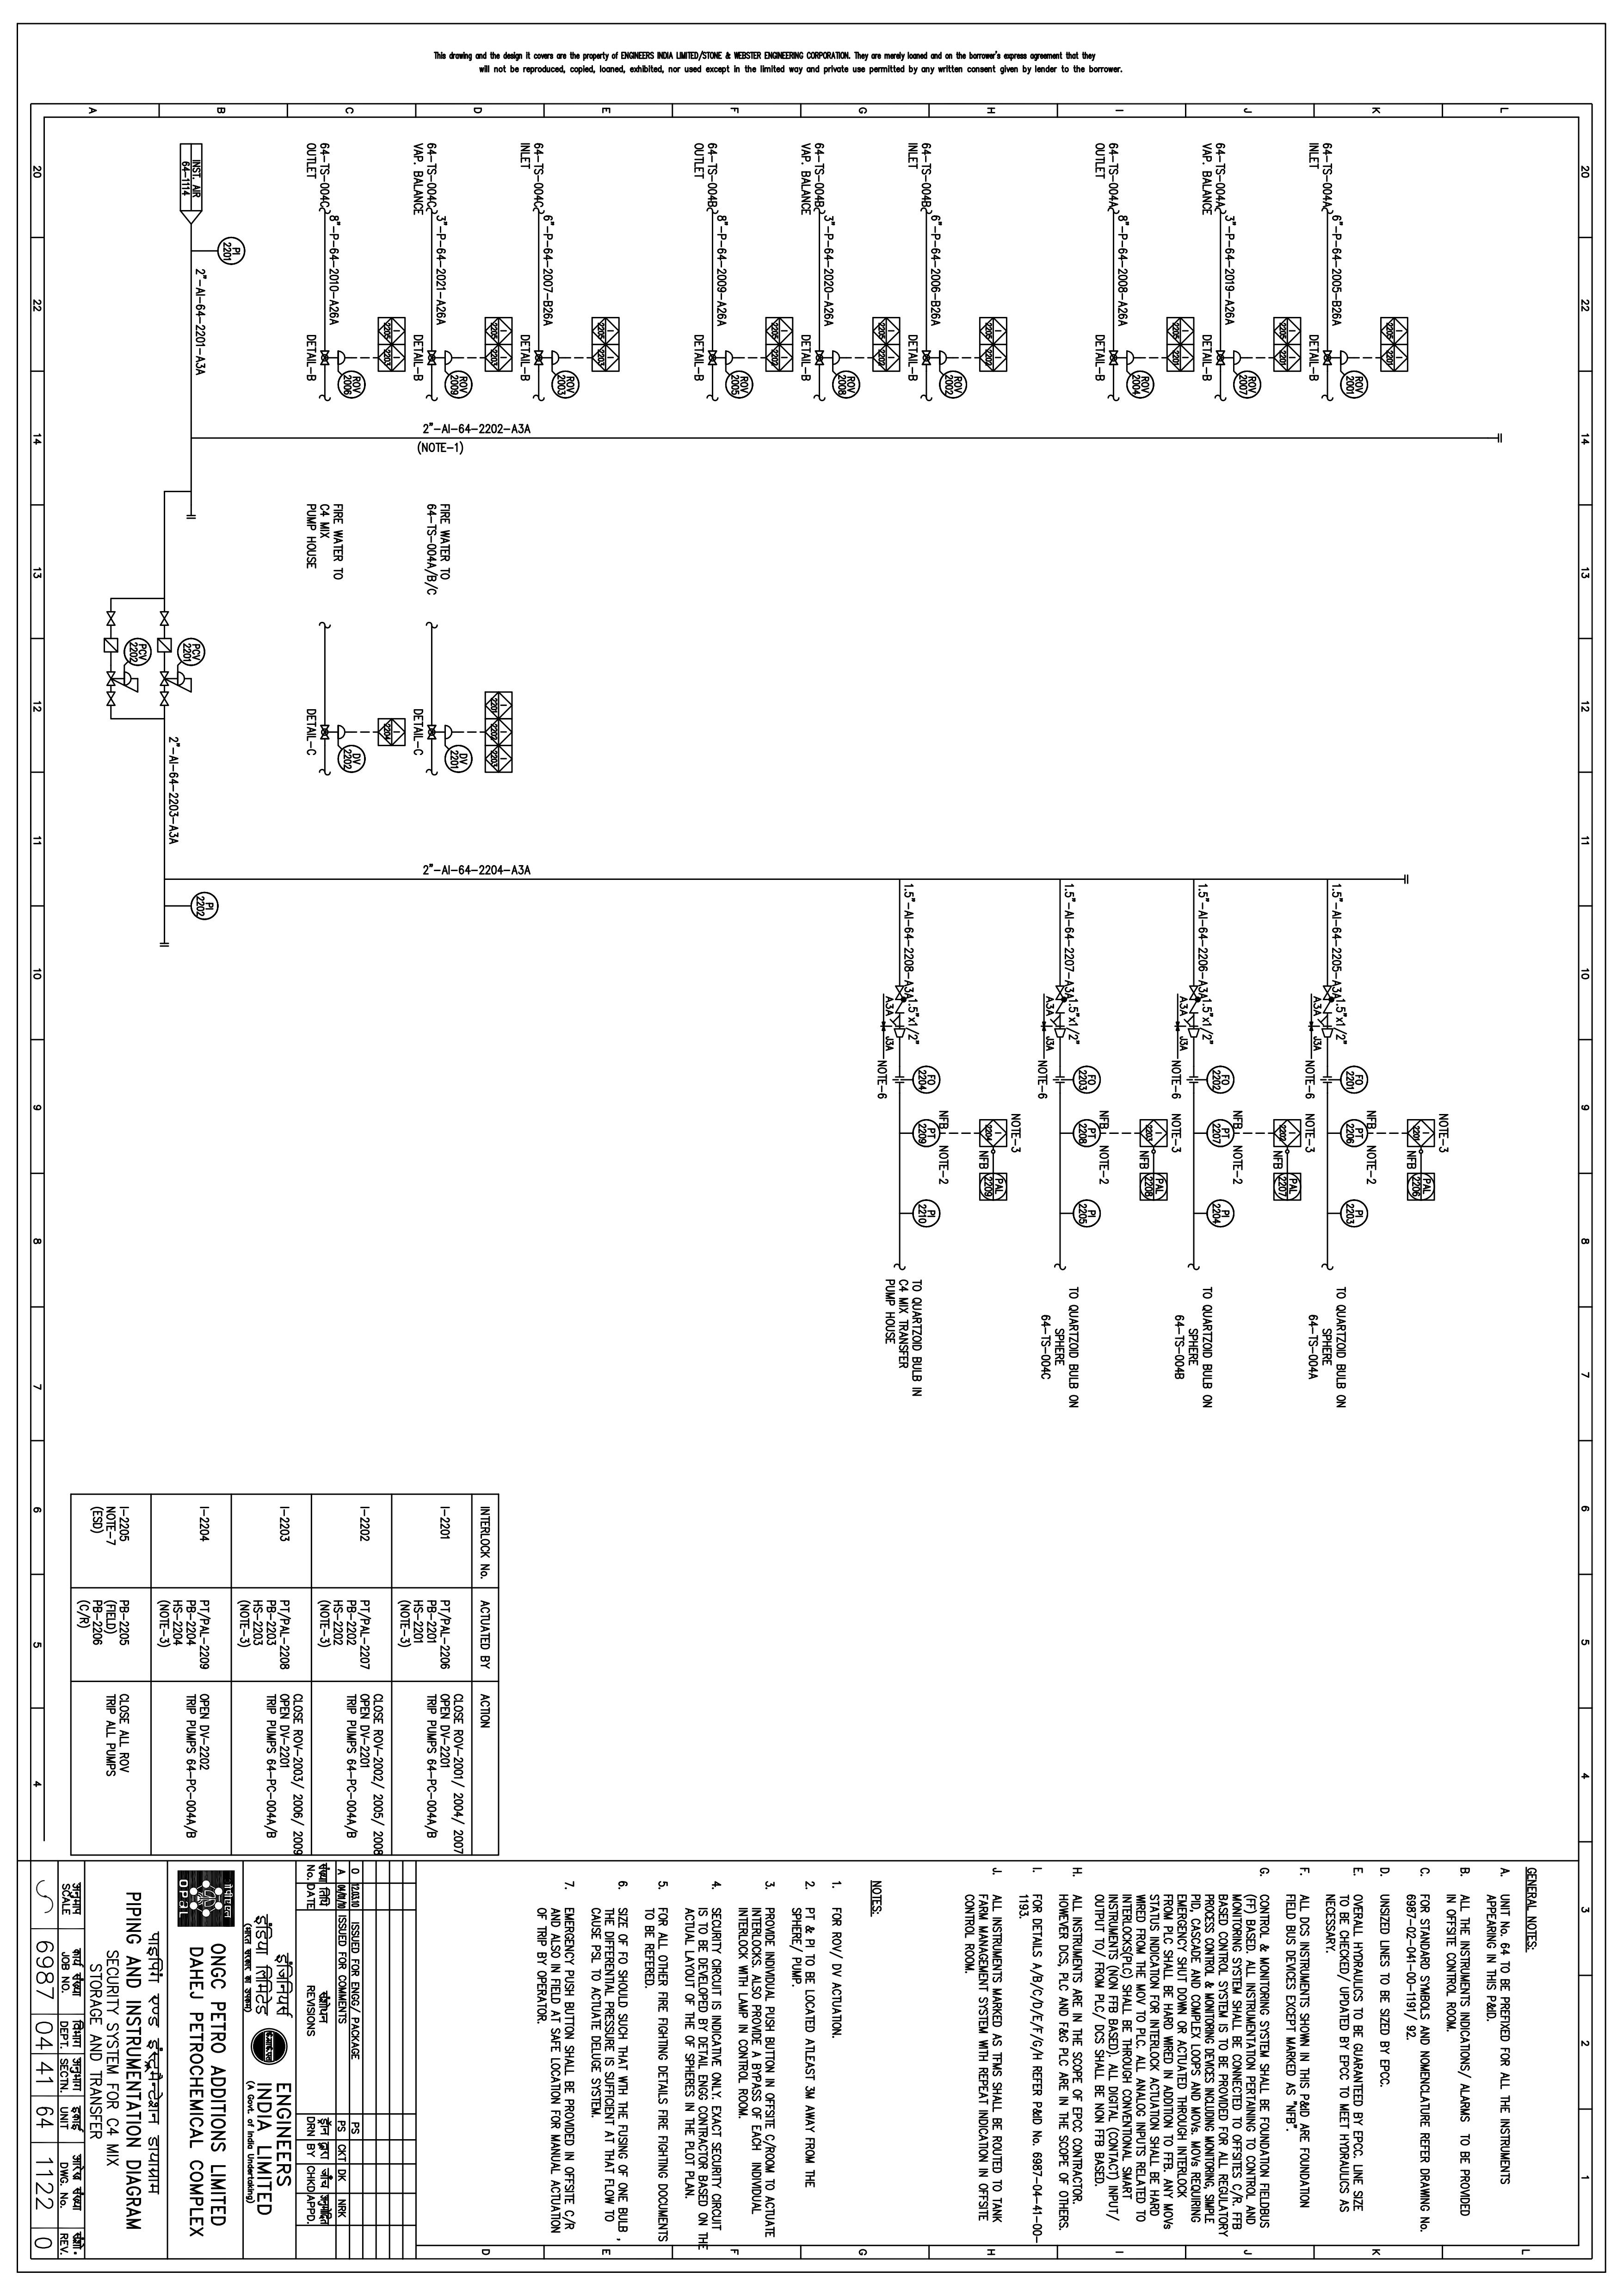ball valve: (176, 669, 204, 701), (1317, 980, 1335, 1017), (1187, 982, 1205, 1017), (102, 606, 123, 632), (1228, 346, 1247, 374), (441, 720, 460, 748), (1052, 982, 1068, 1015), (153, 662, 176, 685), (119, 669, 141, 694), (1049, 1015, 1068, 1042), (1184, 1017, 1201, 1045), (316, 344, 334, 371), (335, 339, 350, 371), (703, 350, 724, 371), (826, 343, 841, 371), (155, 608, 176, 629), (933, 343, 950, 367), (158, 689, 176, 713), (334, 720, 350, 747), (548, 350, 567, 371), (425, 717, 439, 745), (104, 662, 119, 687), (1338, 343, 1352, 369), (439, 346, 455, 369), (1212, 348, 1228, 371), (891, 1015, 906, 1038), (722, 346, 736, 371), (529, 350, 548, 367), (922, 346, 934, 372), (320, 718, 332, 745), (1105, 348, 1119, 371), (1124, 348, 1138, 371), (1319, 1022, 1335, 1042), (425, 350, 439, 371), (811, 346, 826, 367), (1321, 348, 1335, 369), (105, 687, 118, 708), (894, 980, 906, 1001)
